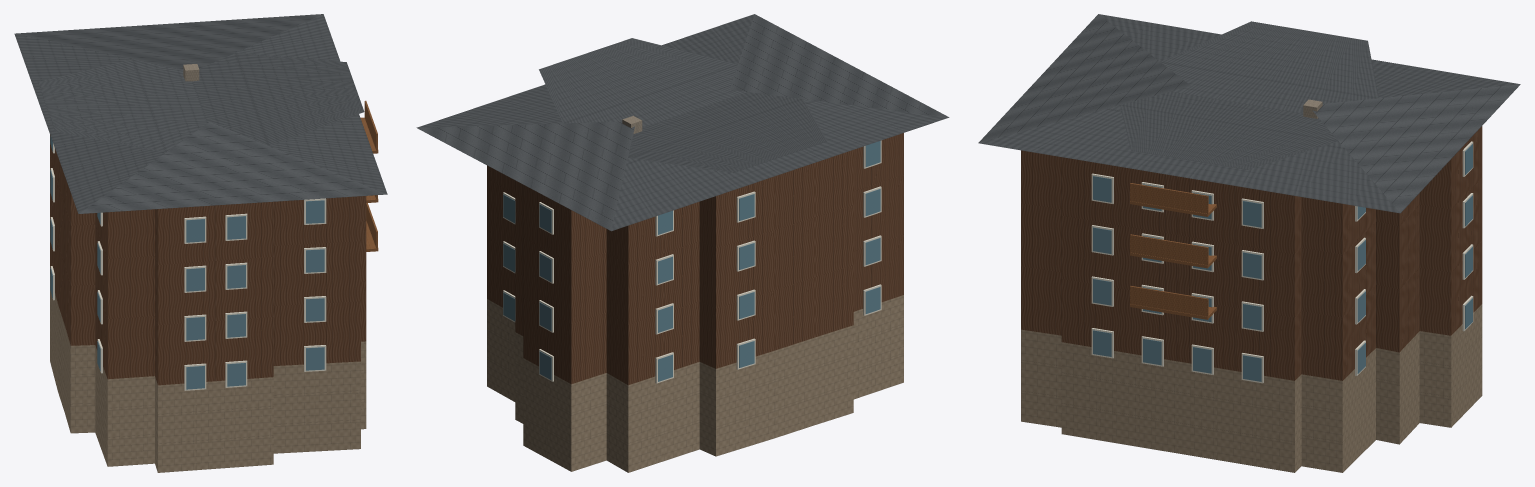
File: core_0059.gltf
3 views of the same model, side by side, from view 1: azimuth 30°, elevation 25°; view 2: azimuth 150°, elevation 25°; view 3: azimuth 270°, elevation 25° (orthographic). The views are drawn at different scales.
Visible parts, largest first — view 1: core_0059; view 2: core_0059; view 3: core_0059.
Boxes of the visible parts, x1,y1,x2,y2 form: core_0059: [14, 14, 387, 472]; core_0059: [416, 14, 949, 472]; core_0059: [978, 14, 1520, 472].
Bounding box in the file's own units: 23.7 × 16.75 × 27.26.
7 materials, 7 textured.
